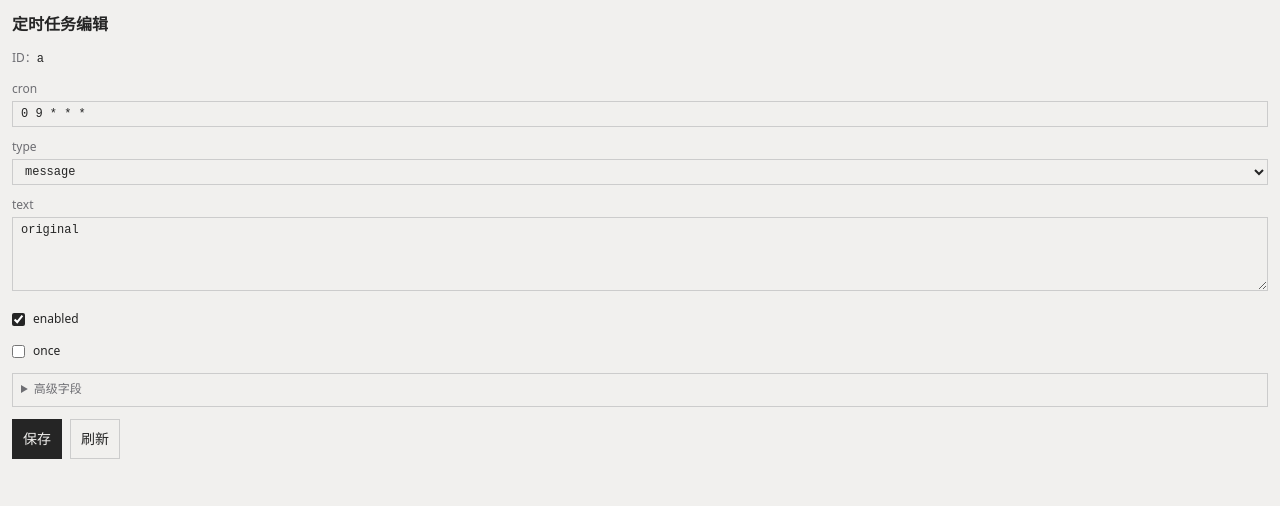
it: 定时任务右栏的保存 › 校验不过的 400 原样说出原因，表单留着
The width and height of the screenshot is (1280, 506).
Replace the text in the text box labelled "text" with "changed" at (640, 254), box 12,217 -> 1268,291
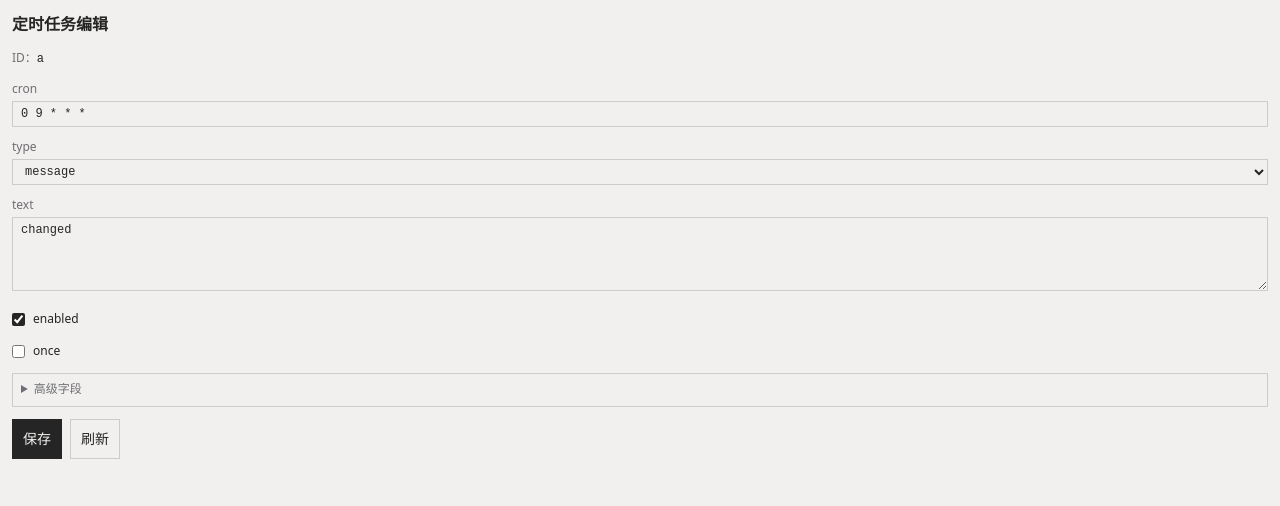
Click the button "保存" at (37, 439), box 12,419 -> 62,459
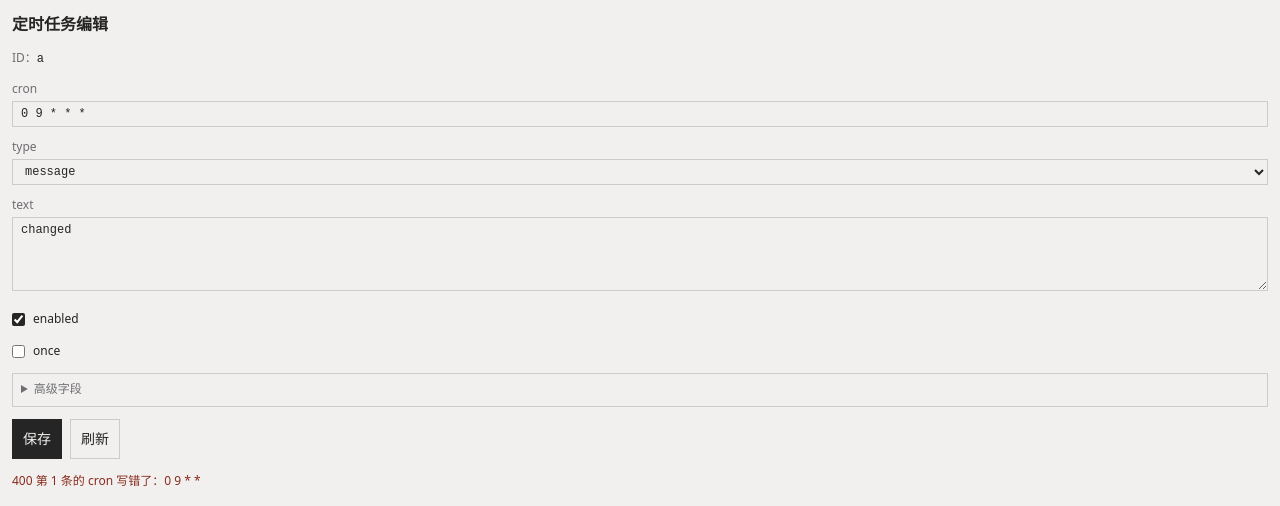
Expected: the text "400 第 1 条的 cron 写错了：0 9 * *" is shown, 12,472 -> 200,489
